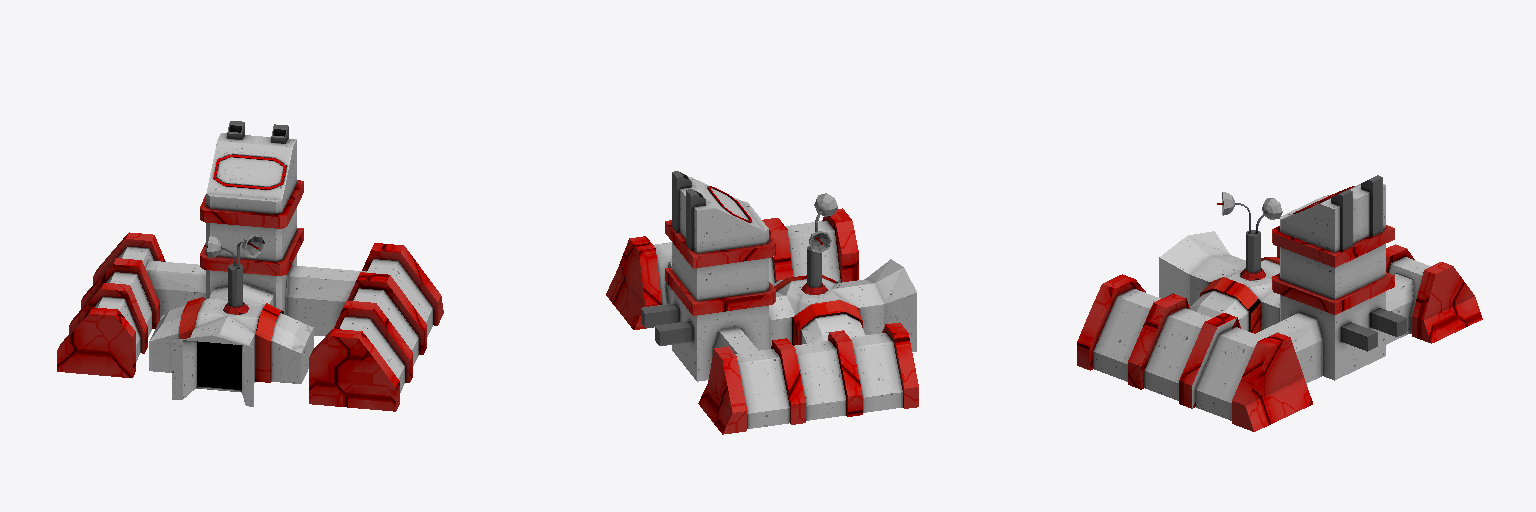
The picture shows the model from 3 angles: view 1: azimuth 30°, elevation 25°; view 2: azimuth 150°, elevation 25°; view 3: azimuth 270°, elevation 25°; orthographic projection.
Visible parts, largest first — view 1: Box034.000; view 2: Box034.000; view 3: Box034.000.
Boxes of the visible parts, x1=… form: Box034.000: x1=57, y1=121, x2=443, y2=411; Box034.000: x1=606, y1=171, x2=918, y2=434; Box034.000: x1=1077, y1=175, x2=1482, y2=431.
Size of the model in its own units: 60.43 by 30.18 by 60.68.
Materials: 1 (1 with a texture image).